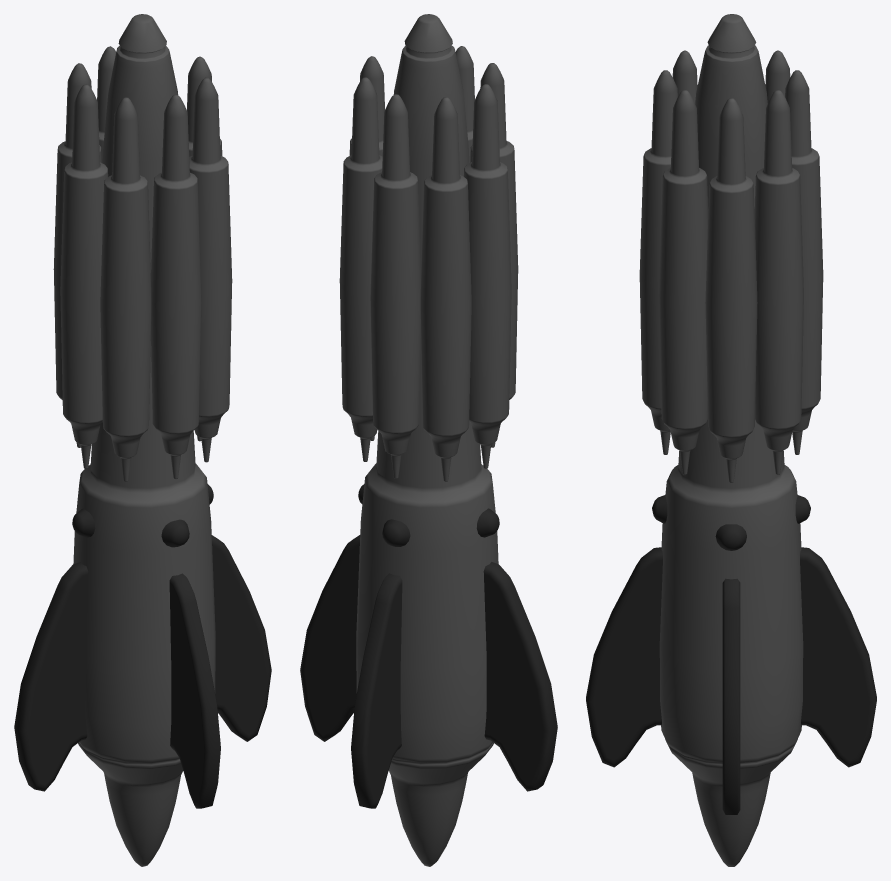
Rendered from _Rocket_05.fbx.
The picture shows the model from 3 angles, left to right: view 1: azimuth 30°, elevation 25°; view 2: azimuth 150°, elevation 25°; view 3: azimuth 270°, elevation 25°; orthographic projection.
Parts seen in each view (by area): view 1: Rocket_05; view 2: Rocket_05; view 3: Rocket_05.
Boxes of the visible parts, box(x1,y1,x2,y2) form: Rocket_05: box(14, 14, 271, 866); Rocket_05: box(300, 14, 557, 866); Rocket_05: box(586, 14, 876, 866).
Bounding box in the file's own units: 66.53 × 214 × 66.53.
1 material, 1 textured.
